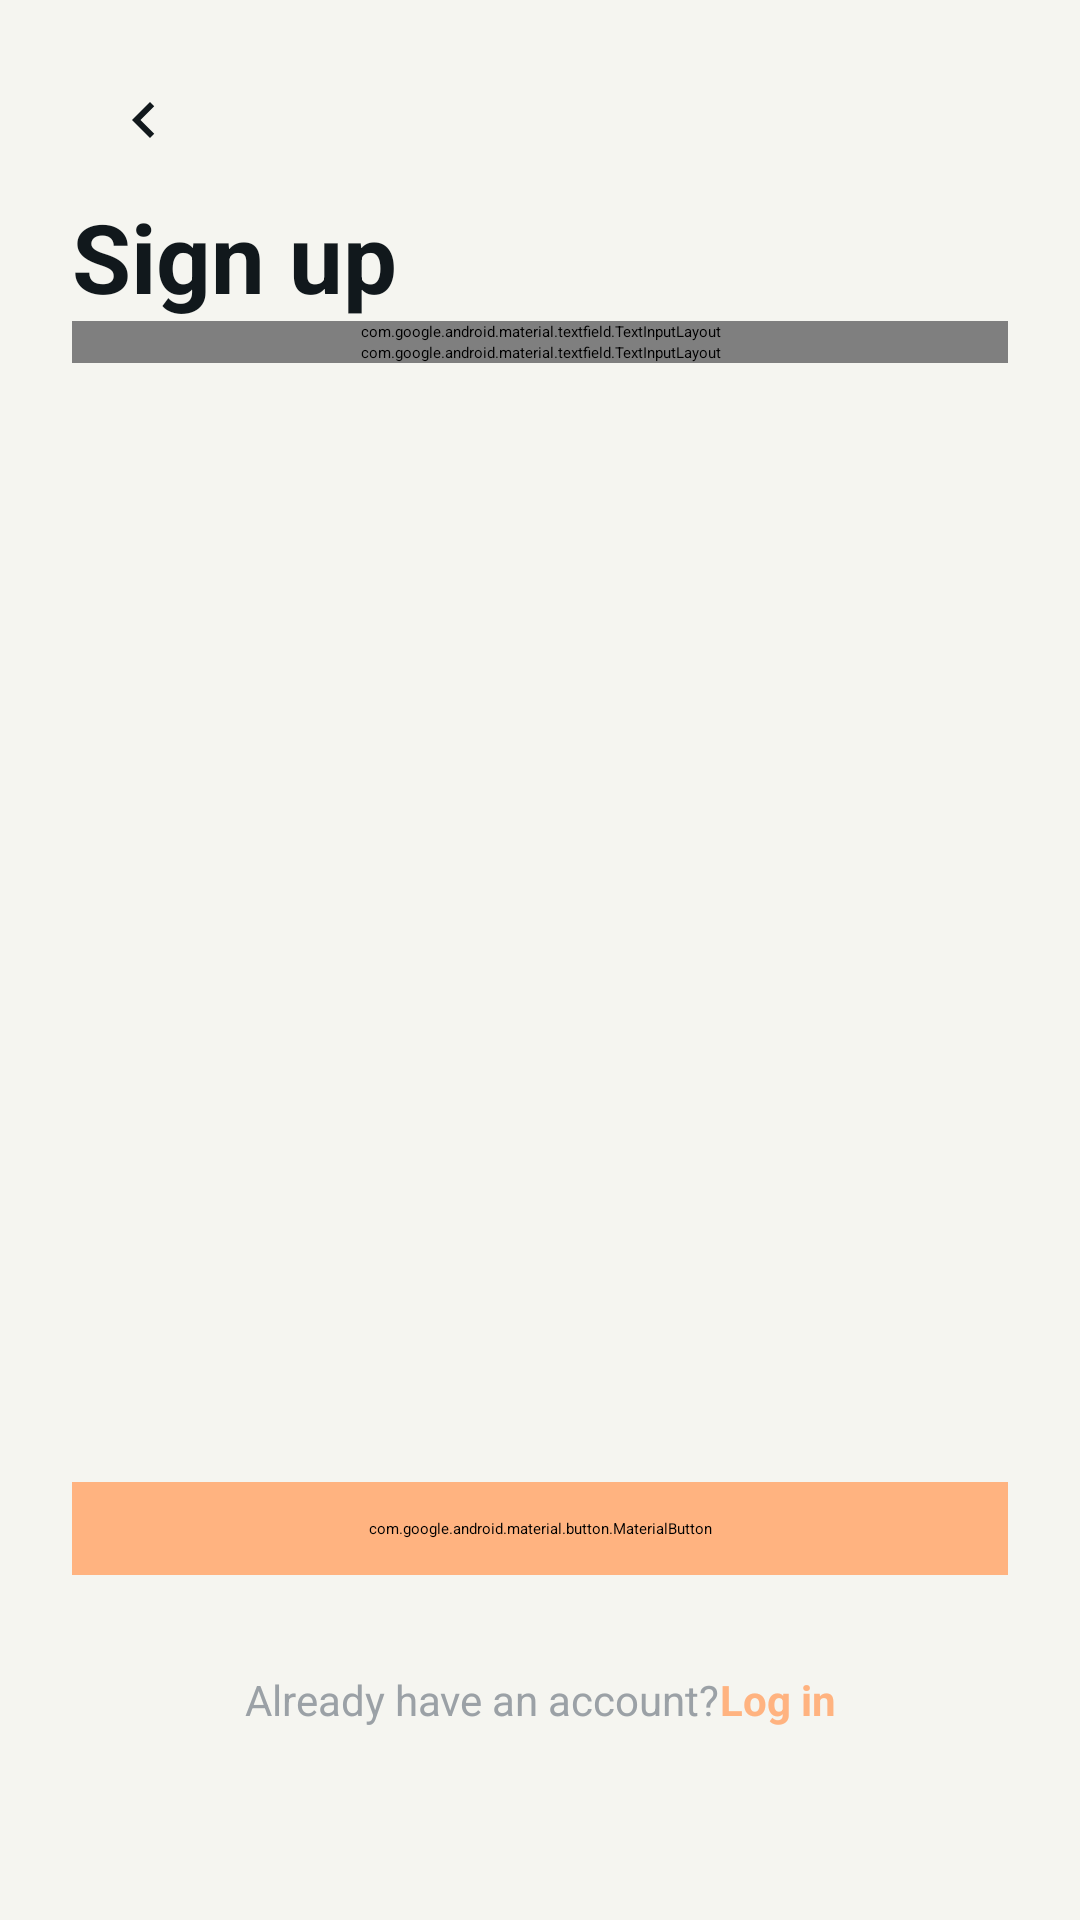

Locate icon controls on the screen. Image size 1080 × 1920, boxes as [left=x1, top=y1, right=x2, bottom=y2].
Back: [left=132, top=102, right=154, bottom=138]
